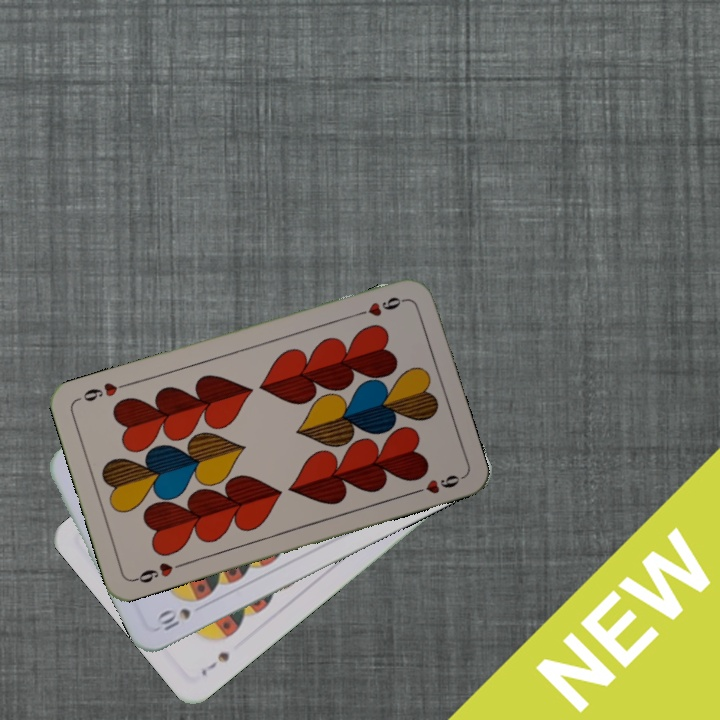H9: (129, 558, 187, 586), (351, 293, 409, 319)
S10: (152, 604, 194, 634)
S7: (197, 648, 232, 679)
